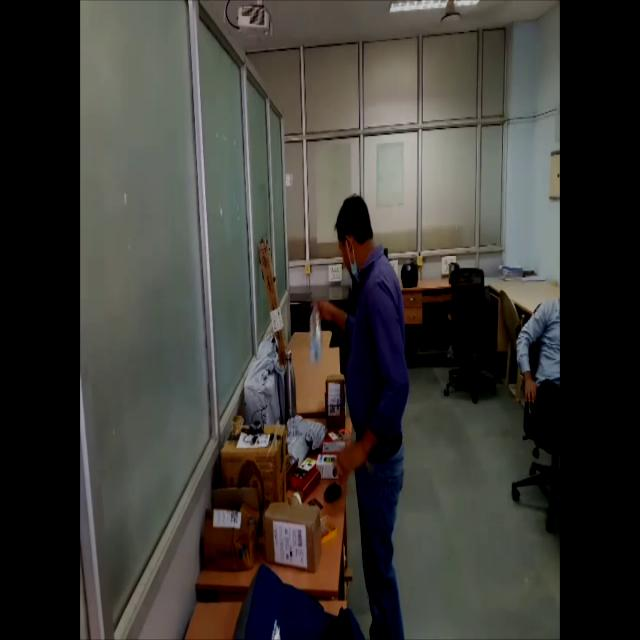normal: (314, 179, 432, 640)
